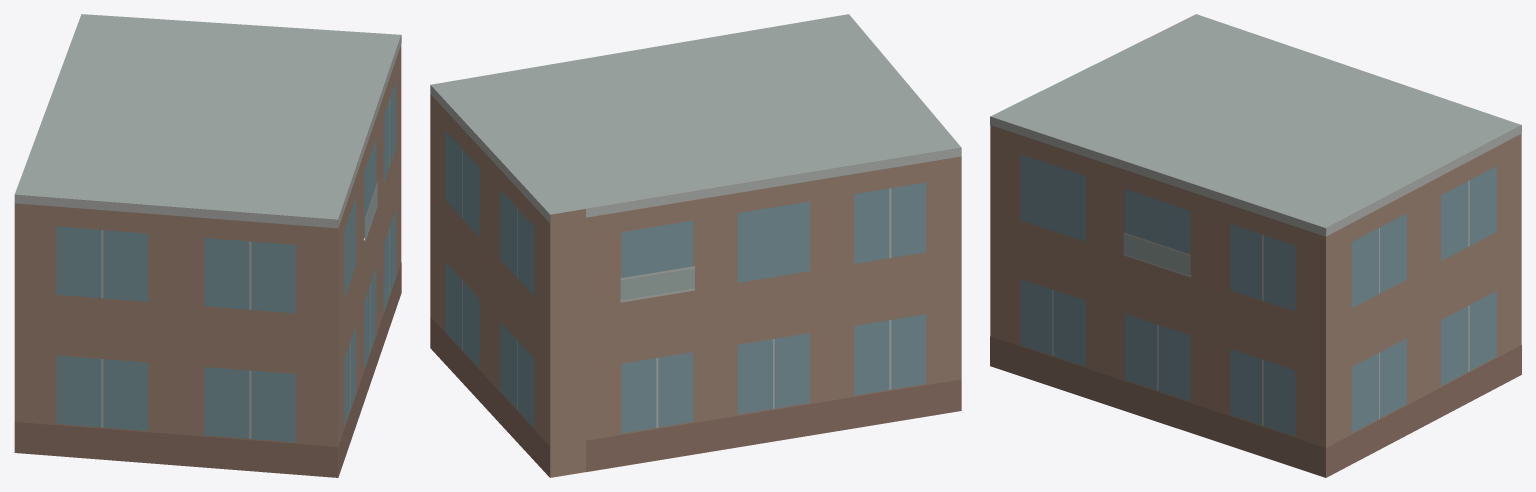
File: survey-upis-32497072.glb
The picture shows the model from 3 angles, left to right: view 1: azimuth 30°, elevation 25°; view 2: azimuth 150°, elevation 25°; view 3: azimuth 270°, elevation 25°; orthographic projection. The views are drawn at different scales.
Visible parts, largest first — view 1: survey-upis-32497072.tmp; view 2: survey-upis-32497072.tmp; view 3: survey-upis-32497072.tmp.
Boxes of the visible parts, bbox=[...] form: survey-upis-32497072.tmp: bbox=[14, 14, 401, 477]; survey-upis-32497072.tmp: bbox=[430, 14, 961, 477]; survey-upis-32497072.tmp: bbox=[990, 14, 1521, 477].
Bounding box in the file's own units: 13.25 × 7.2 × 13.9.
